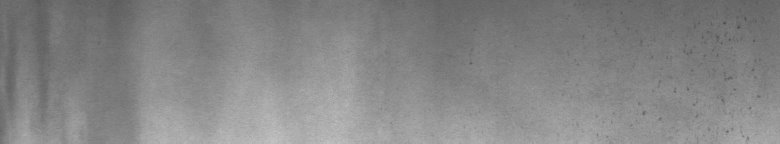ib: (642, 22, 740, 133)
